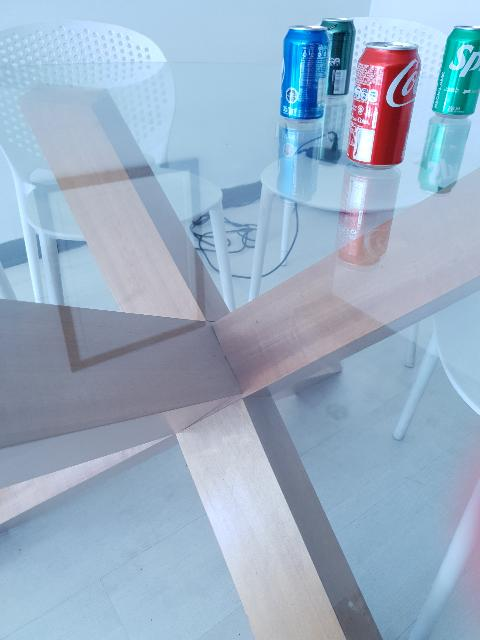coke: (350, 43, 419, 167)
pepsi: (282, 24, 328, 118)
schweppes: (318, 16, 356, 94)
sprite: (434, 22, 480, 120)
